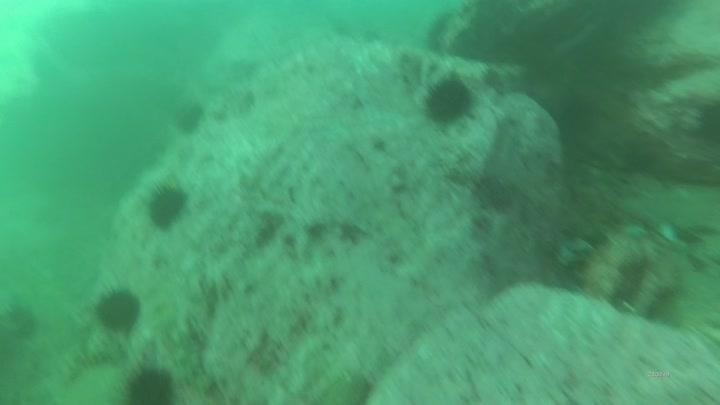echinus: (421, 73, 477, 128), (92, 285, 144, 335), (143, 181, 190, 232), (120, 364, 178, 404), (2, 300, 41, 343), (172, 100, 207, 137)
holothurian: (57, 343, 116, 384)
